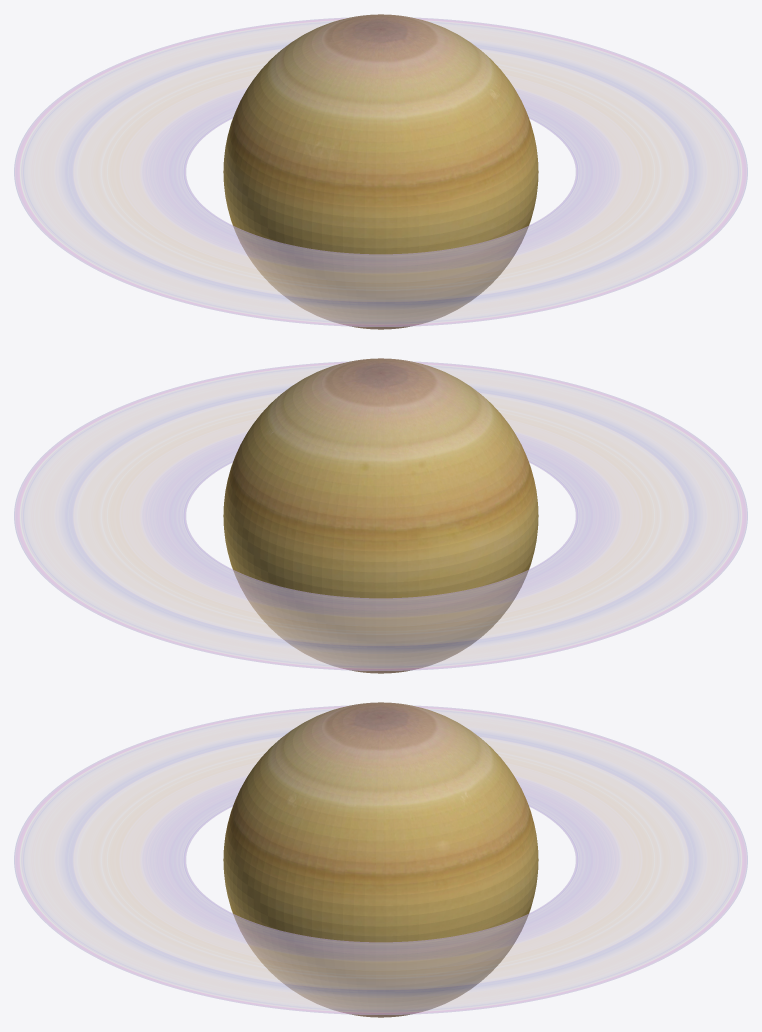
Rendered from saturn.glb.
3 renders of one model, top to bottom at view 1: azimuth 30°, elevation 25°; view 2: azimuth 150°, elevation 25°; view 3: azimuth 270°, elevation 25°, orthographic.
Parts seen in each view (by area): view 1: material1, material0; view 2: material1, material0; view 3: material1, material0.
Boxes of the visible parts, left/top/right/bottom form: material1: left=14, top=17, right=747, bottom=326; material0: left=223, top=14, right=538, bottom=329; material1: left=14, top=361, right=747, bottom=670; material0: left=223, top=358, right=538, bottom=673; material1: left=14, top=705, right=747, bottom=1014; material0: left=223, top=702, right=538, bottom=1017.
Size of the model in its own units: 280770 by 120536 by 280770.
2 materials, 2 textured.
